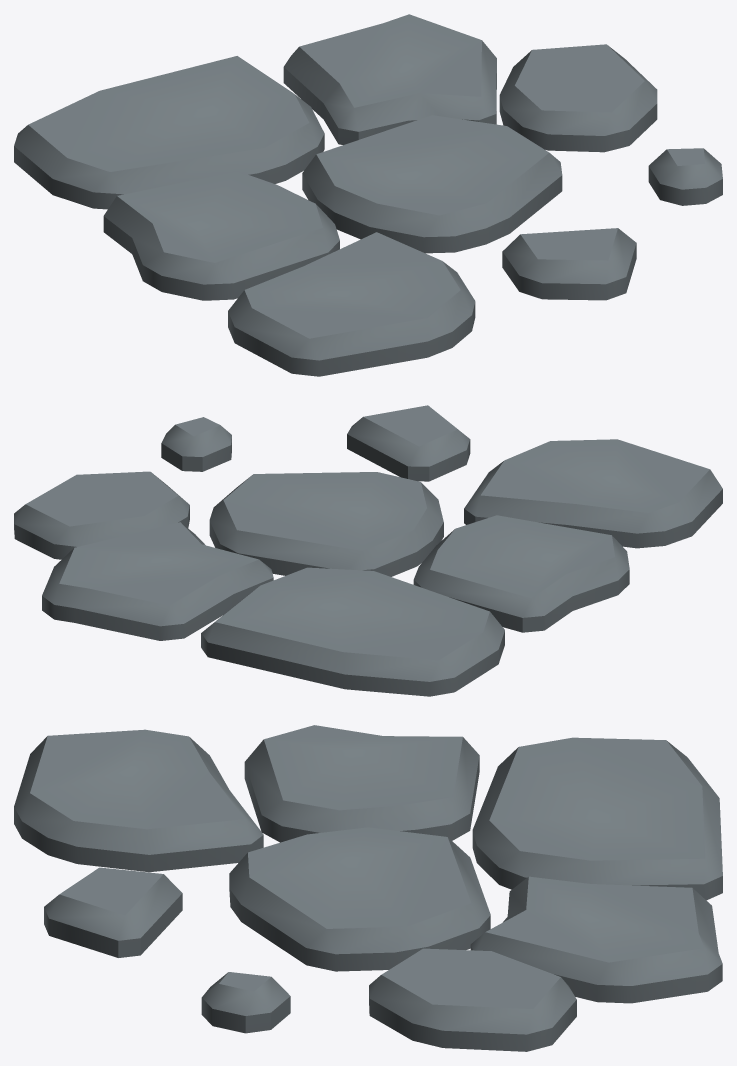
File: path_C.glb
3 views of the same model, one above another, from view 1: azimuth 30°, elevation 25°; view 2: azimuth 150°, elevation 25°; view 3: azimuth 270°, elevation 25° (orthographic). The views are drawn at different scales.
Visible parts, largest first — view 1: path_C; view 2: path_C; view 3: path_C.
Boxes of the visible parts, box(x1,y1,x2,y2) form: path_C: box(14, 14, 722, 376); path_C: box(14, 405, 722, 696); path_C: box(14, 725, 722, 1051).
Bounding box in the file's own units: 1.85 × 0.1 × 1.86.
Materials: 1 (1 with a texture image).
